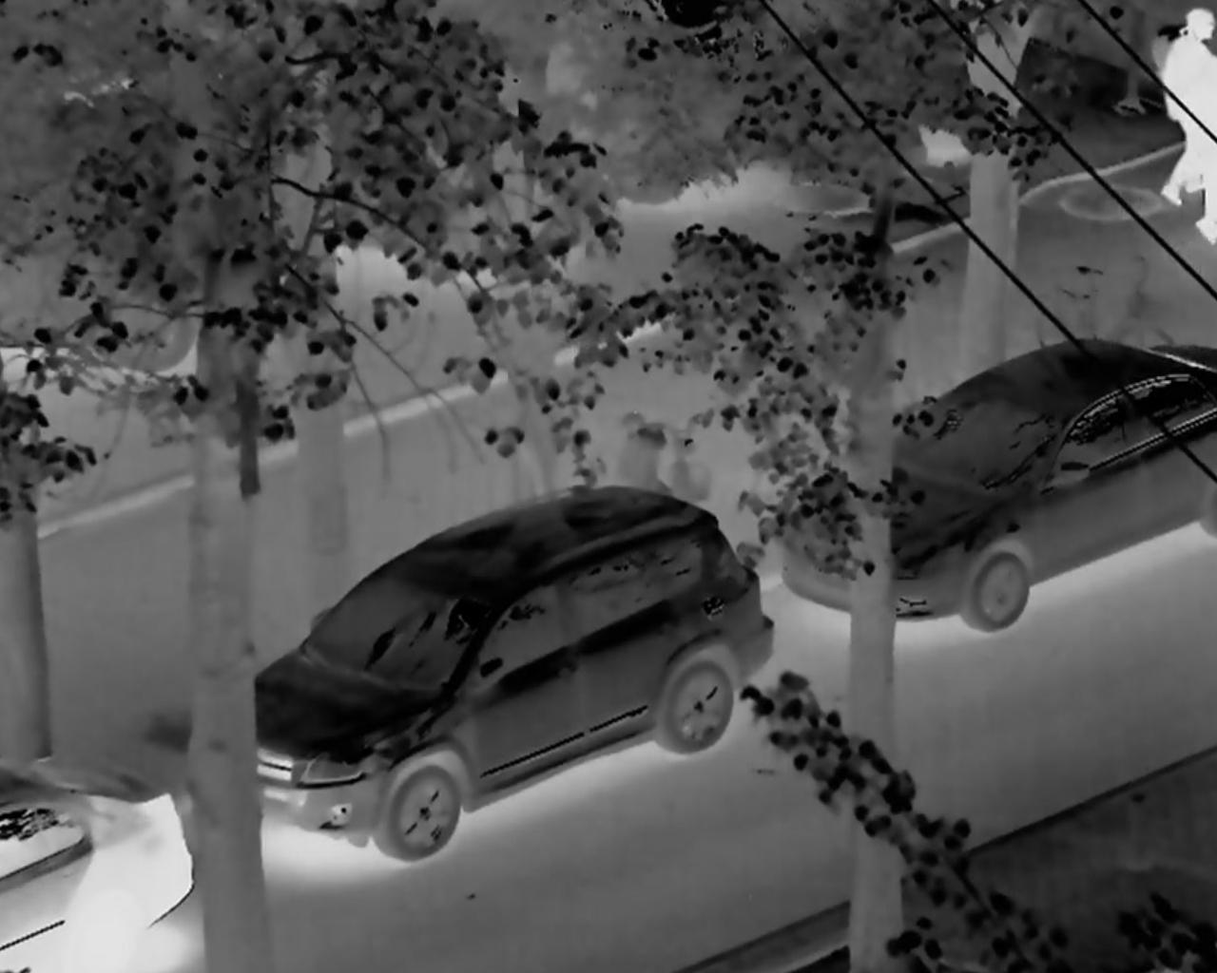person: (1157, 11, 1217, 224)
